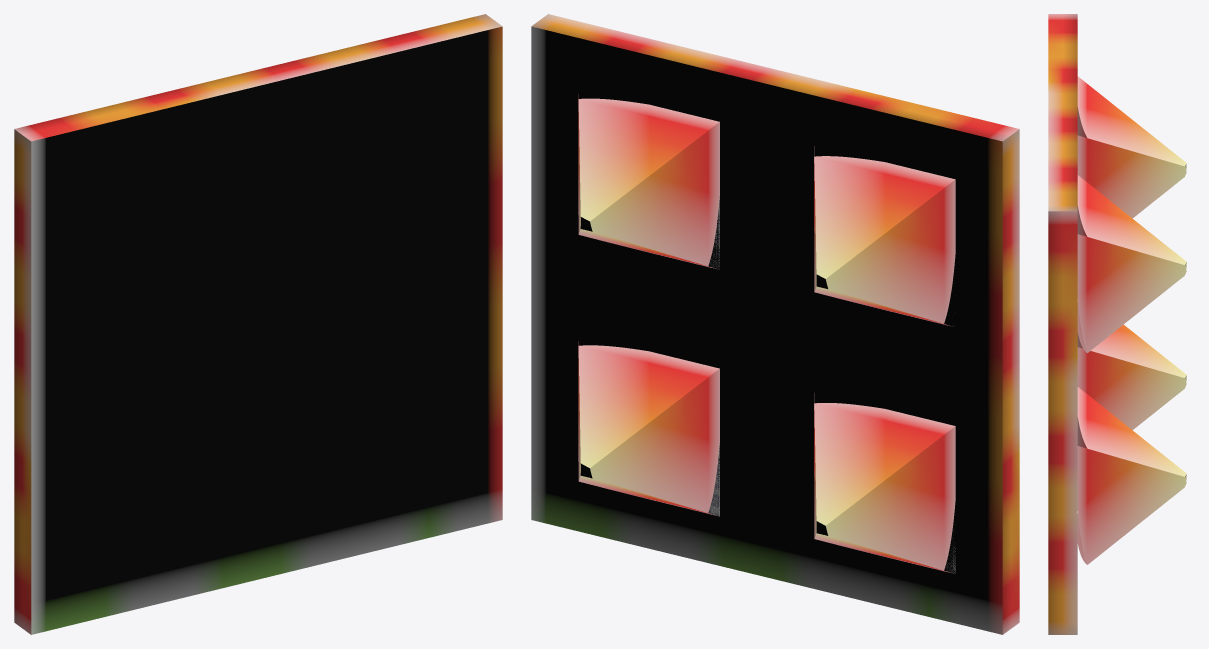
The model's file is WallSpikeTall.obj.
3 views of the same model, side by side, from view 1: azimuth 30°, elevation 25°; view 2: azimuth 150°, elevation 25°; view 3: azimuth 270°, elevation 25° (orthographic). The views are drawn at different scales.
Visible parts, largest first — view 1: Base; view 2: Base, Spike1, Spike1.001, Spike1.002, Spike1.003; view 3: Base, Spike1, Spike1.001, Spike1.003, Spike1.002.
Boxes of the visible parts, x1,y1,x2,y2 form: Base: (14,14,502,634); Base: (531,14,1019,634); Spike1: (578,341,719,516); Spike1.001: (578,94,719,269); Spike1.002: (814,393,955,573); Spike1.003: (814,146,955,326); Base: (1048,14,1077,634); Spike1: (1077,387,1186,564); Spike1.001: (1077,175,1186,353); Spike1.003: (1077,76,1186,218); Spike1.002: (1077,299,1186,430).
Bounding box in the file's own units: 1.6 × 1.6 × 0.5.
